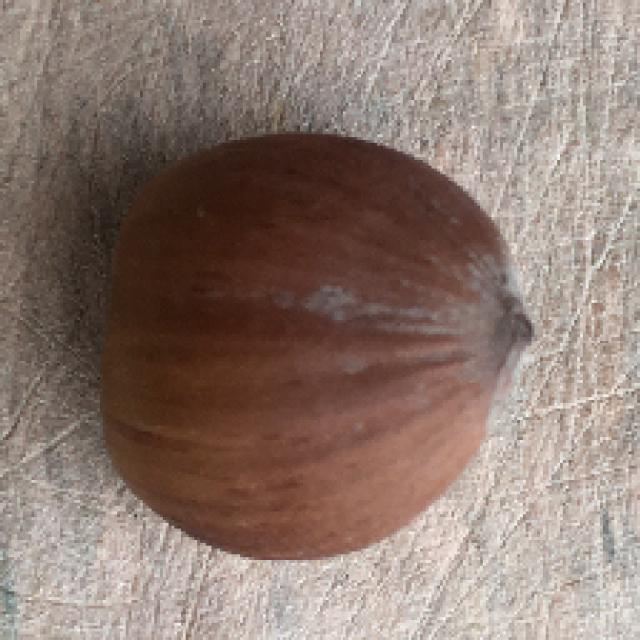DamagedHazelnut: (106, 134, 524, 560)
